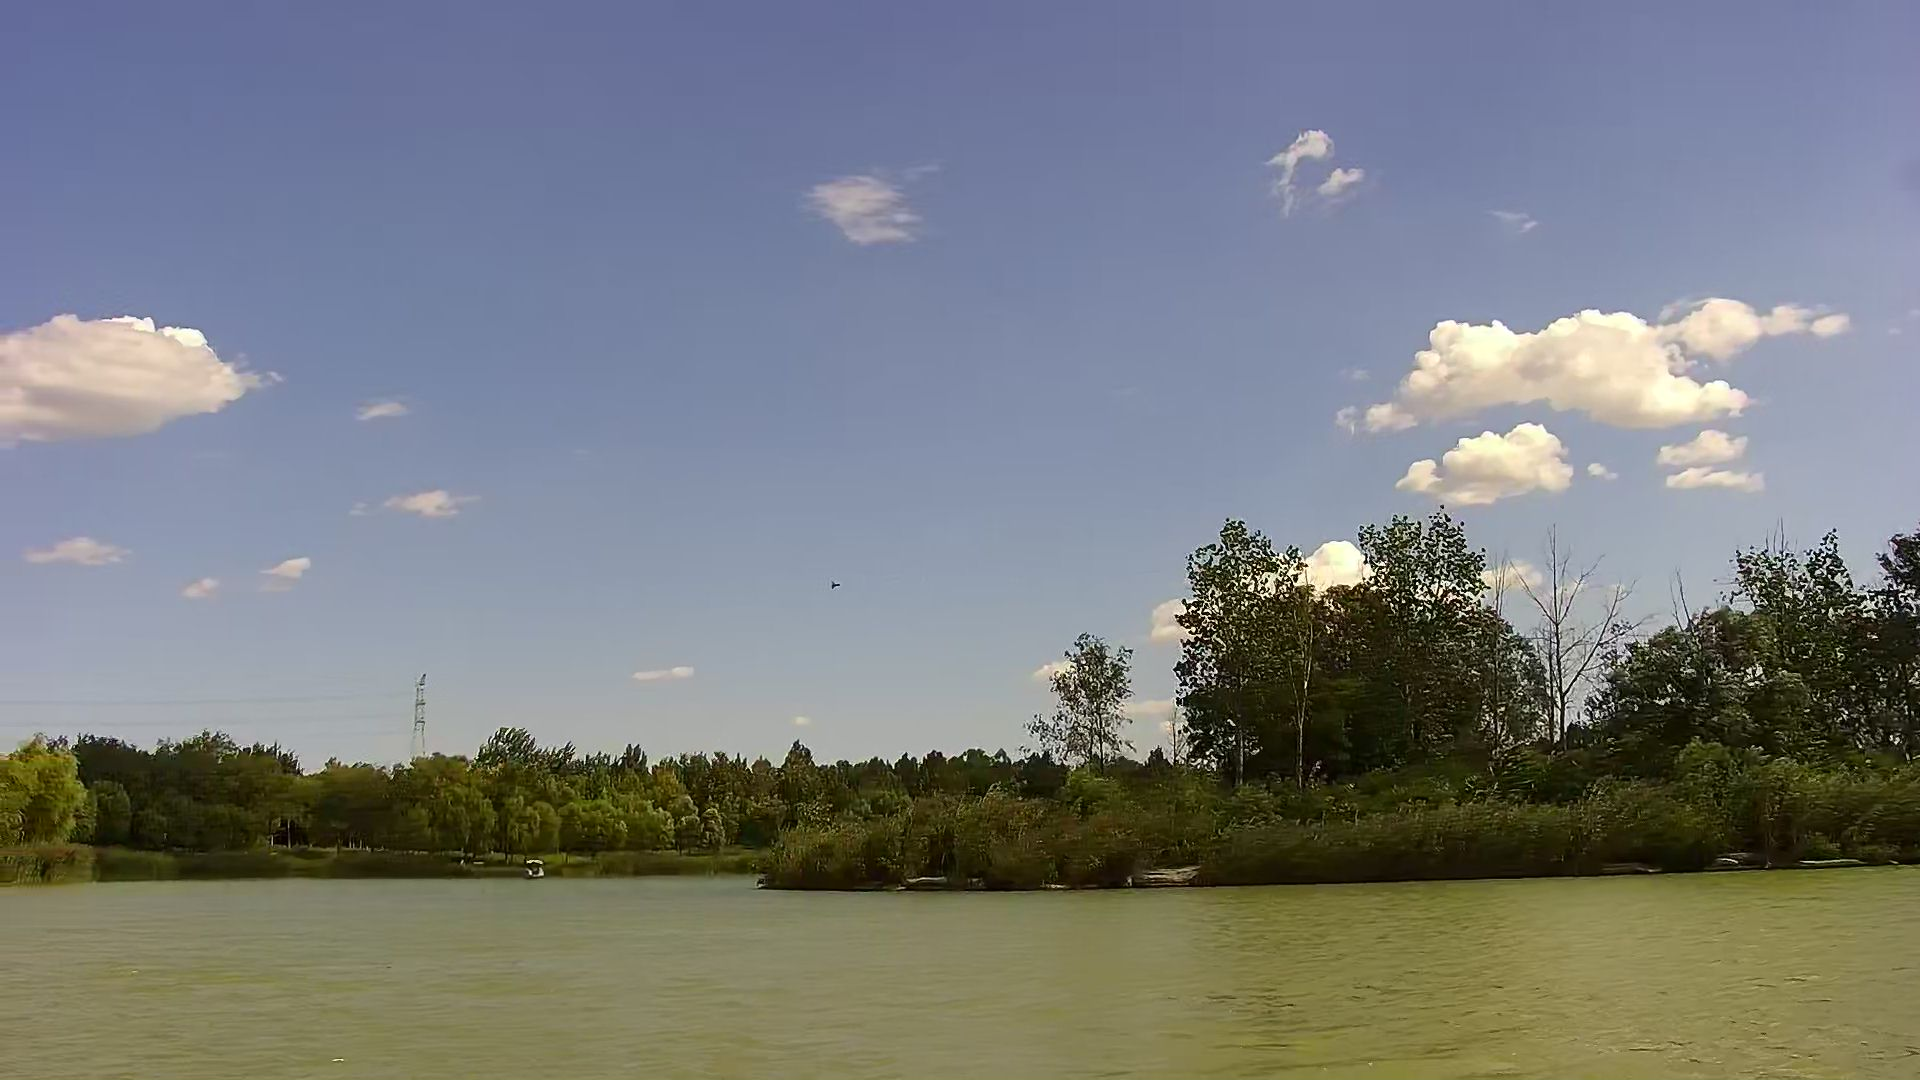rock: (1131, 865, 1203, 885), (899, 873, 967, 887)
